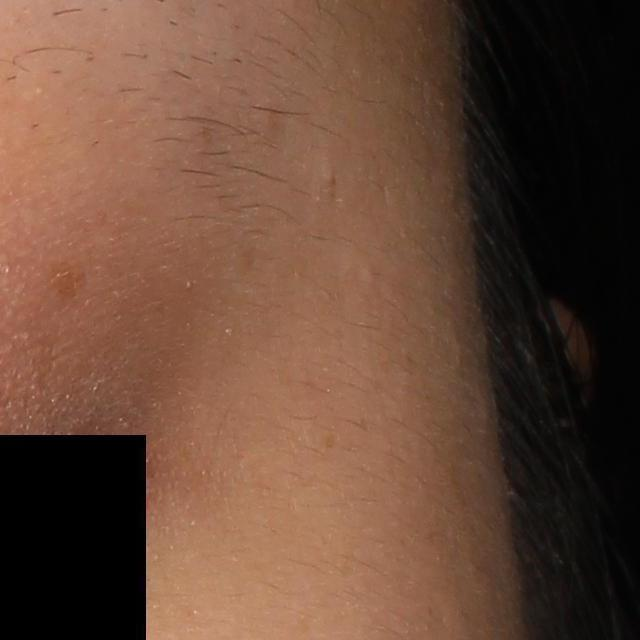melasma: (48, 249, 88, 296)
